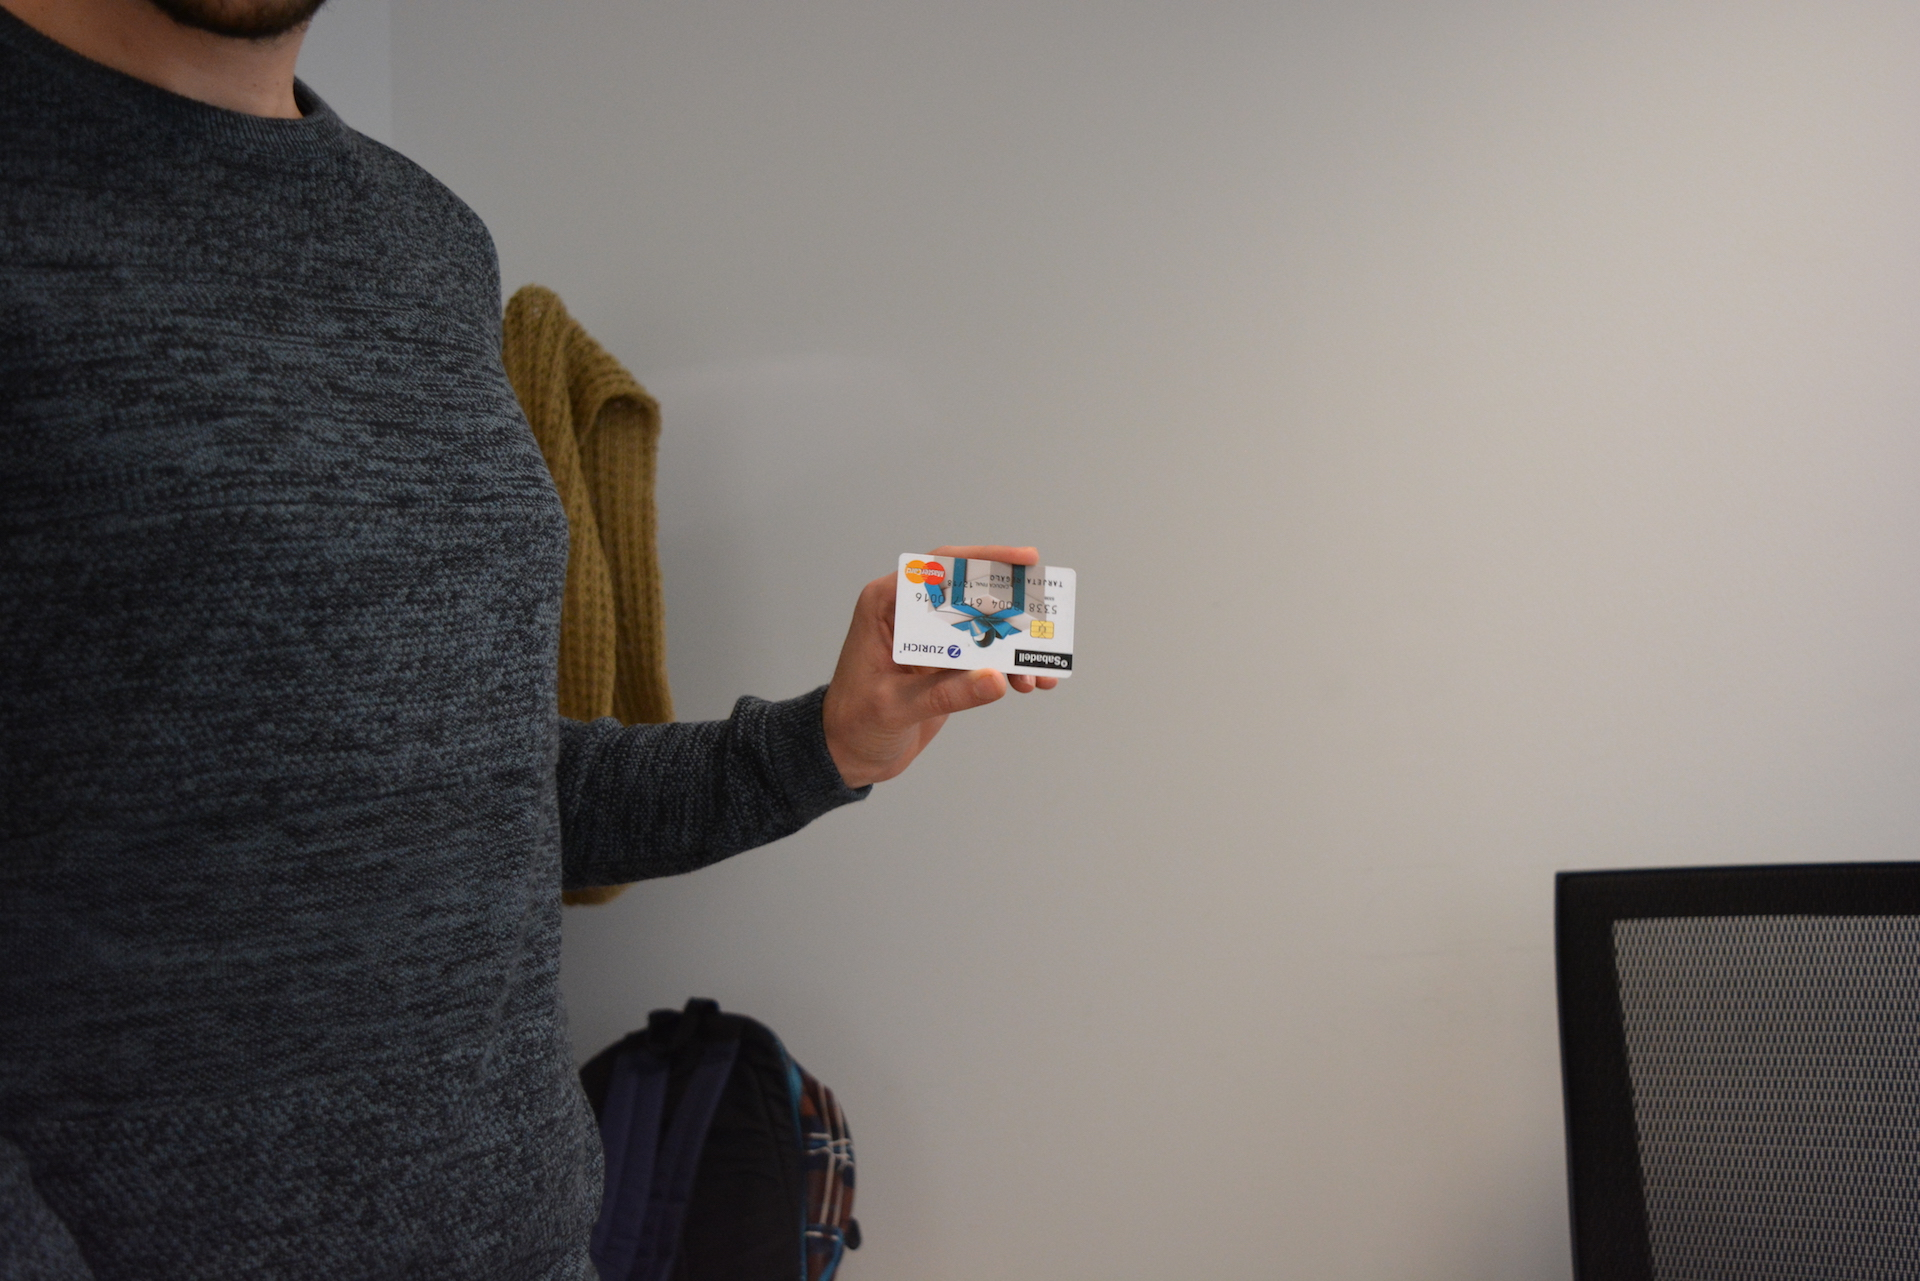tarjeta: (891, 550, 1078, 681)
